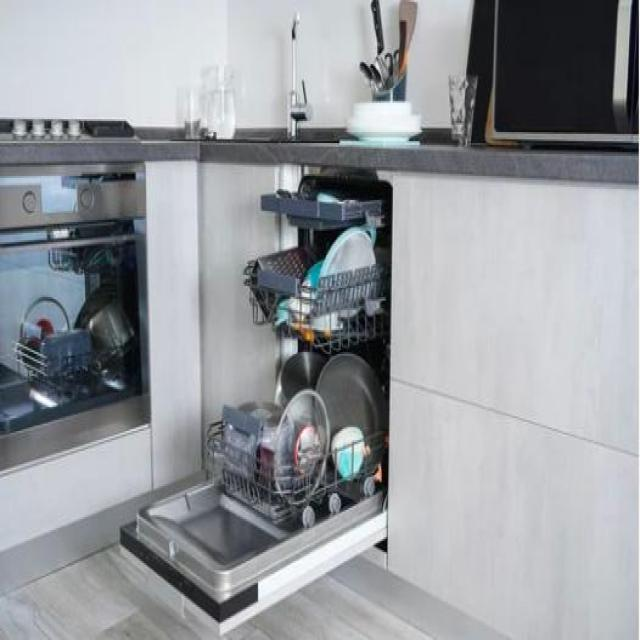dishwasher: (117, 165, 398, 640)
